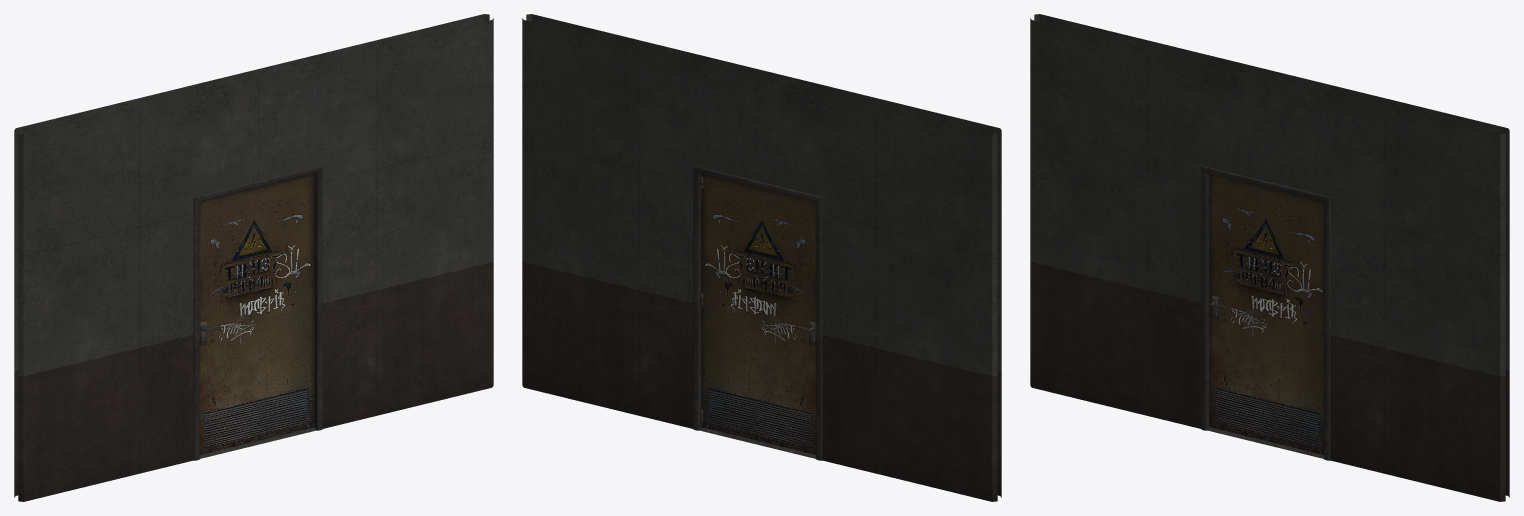
Rendered from doorway_3_plain.fbx.
3 views of the same model, side by side, from view 1: azimuth 30°, elevation 25°; view 2: azimuth 150°, elevation 25°; view 3: azimuth 330°, elevation 25° (orthographic).
Visible parts, largest first — view 1: doorway_3_plain, door_5; view 2: doorway_3_plain, door_5; view 3: doorway_3_plain, door_5.
Part boxes in pixels (x1=…): doorway_3_plain: x1=14, y1=14, x2=493, y2=501; door_5: x1=199, y1=174, x2=314, y2=454; doorway_3_plain: x1=522, y1=14, x2=1001, y2=501; door_5: x1=700, y1=174, x2=816, y2=454; doorway_3_plain: x1=1030, y1=14, x2=1509, y2=501; door_5: x1=1209, y1=174, x2=1324, y2=454.
Size of the model in its own units: 4.06 by 0.194 by 3.
